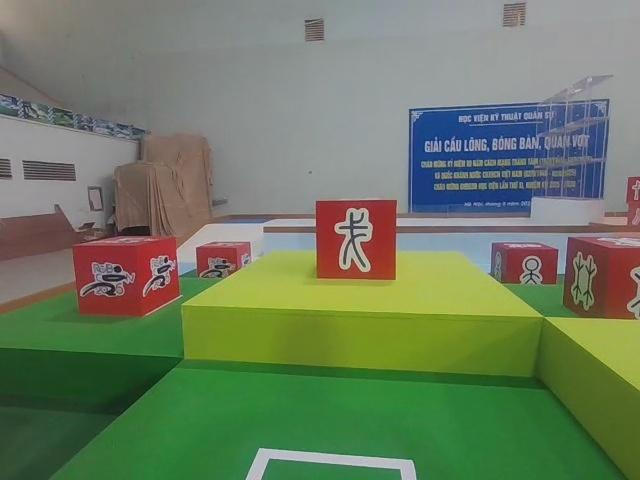R1: (72, 234, 181, 319), (195, 238, 253, 282)
R2 Fake: (316, 199, 395, 281)
R2 Real: (562, 232, 640, 321), (489, 240, 559, 291)
